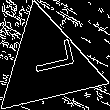L_W: (20, 44, 75, 86)
